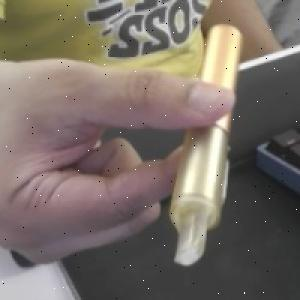Golden-E-Ciggirate: (167, 23, 244, 267)
